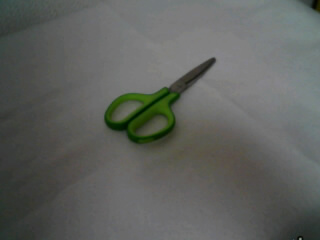003_classes: (100, 53, 218, 149)
